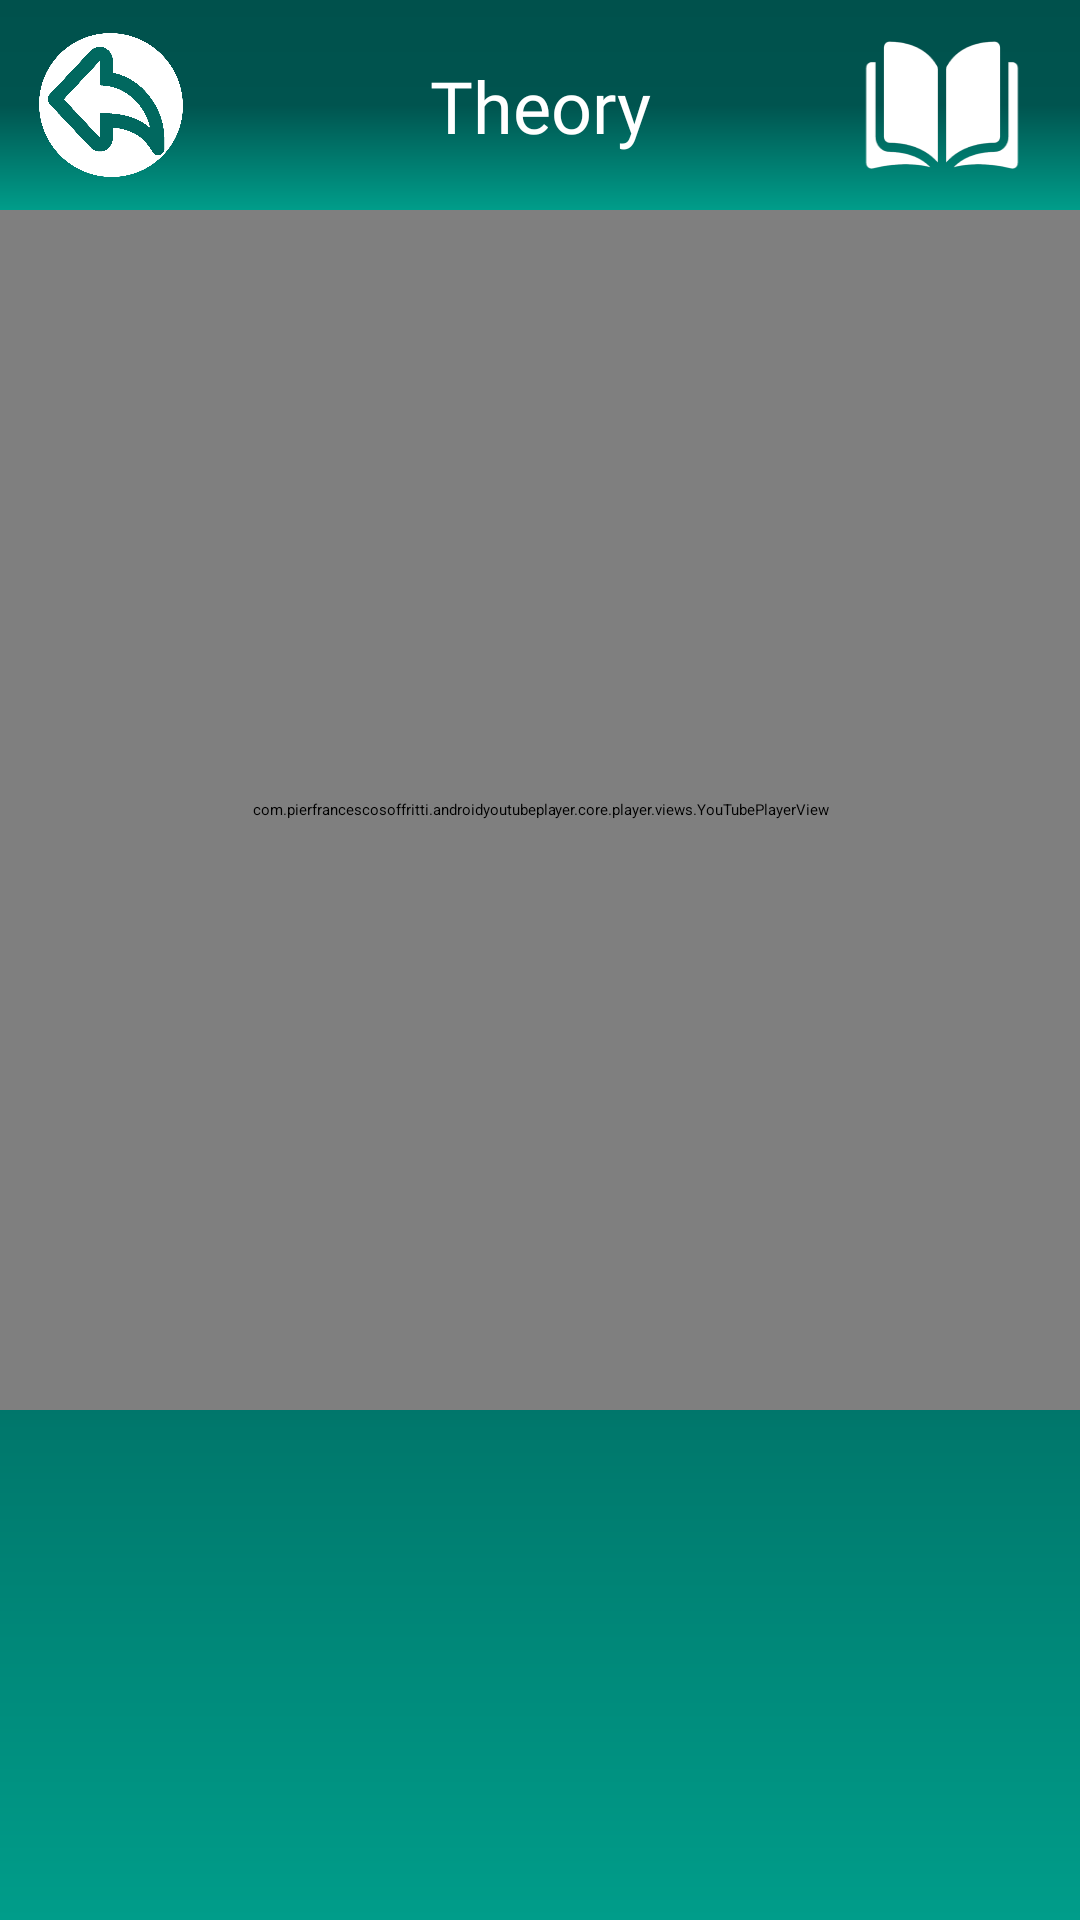

Locate icon controls on the screen. Image size 1080×1920, boxes as (x1, y1, x2, y2).
back: (39, 33, 183, 177)
